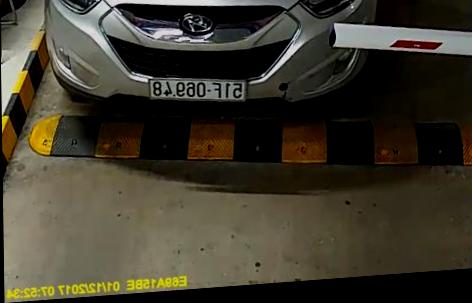License_Plate: (143, 75, 251, 106)
